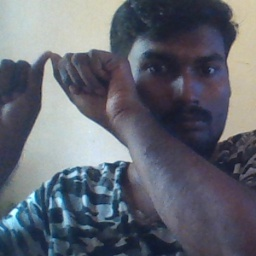A: (1, 42, 118, 128)
